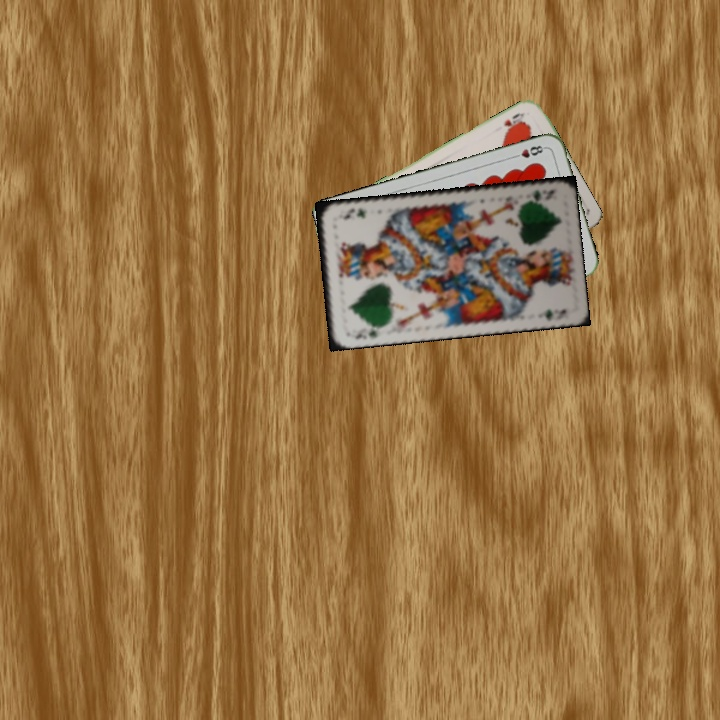GK: (346, 321, 385, 341), (520, 186, 557, 205)
H8: (508, 141, 548, 161)
HO: (499, 109, 527, 136)
